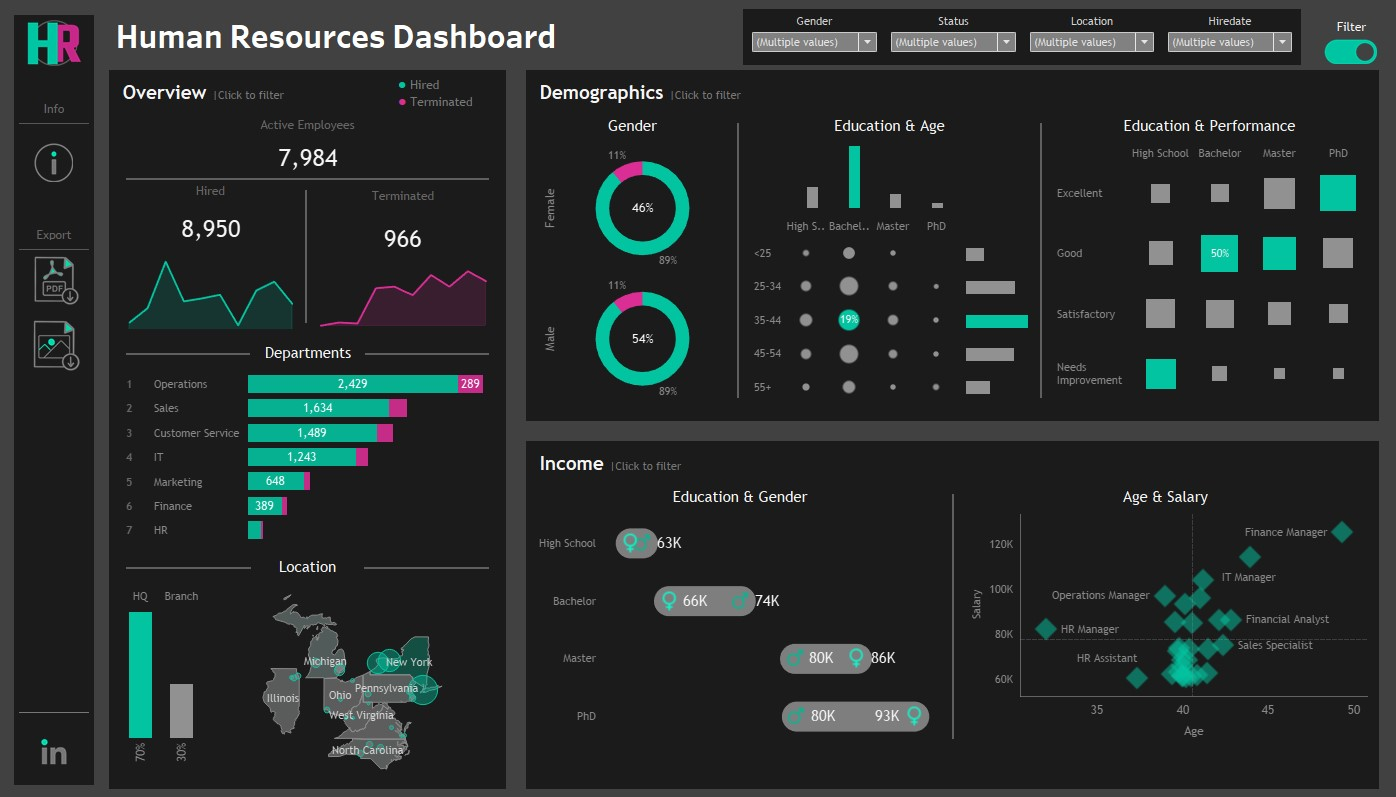

The page's visual inventory and layout, read from the dashboard file:
{"tool":"tableau","page":{"name":"Dashboard Summary","canvas":[1400,800],"ordinal":0},"visuals":[{"type":"blank","box":[96,0,1302,266]},{"type":"text","box":[110,0,622,70]},{"type":"blank","box":[732,0,648,70]},{"type":"filter","title":"gender vs education level","param":"[federated.1v3r0kx0rxv7lr11seoyn0p5qqrr].[none:Gender:nk]","box":[746,11,139,52]},{"type":"filter","title":"gender vs education level","param":"[federated.1v3r0kx0rxv7lr11seoyn0p5qqrr].[none:Calculation_1762314875518541824:n","box":[885,11,139,52]},{"type":"filter","title":"gender vs education level","param":"[federated.1v3r0kx0rxv7lr11seoyn0p5qqrr].[none:Calculation_1646628659733303301:n","box":[1024,11,138,52]},{"type":"filter","title":"gender vs education level","param":"[federated.1v3r0kx0rxv7lr11seoyn0p5qqrr].[yr:Hiredate:ok]","box":[1162,11,138,52]},{"type":"text","box":[1317,12,71,29]},{"type":"image","param":"Image/Logo.png","box":[15,15,80,55]},{"type":"dashboard-object","box":[1325,28,53,47]},{"type":"blank","box":[15,70,80,30]},{"type":"text","box":[396,71,87,43]},{"type":"text","box":[117,77,383,31]},{"type":"text","box":[534,77,839,31]},{"type":"text","box":[15,100,80,18]},{"type":"text","box":[117,108,383,28]},{"type":"text","box":[534,113,199,26]},{"type":"blank","box":[738,113,2,295]},{"type":"text","box":[745,113,291,26]},{"type":"blank","box":[1041,113,2,295]},{"type":"text","box":[1048,113,325,26]},{"type":"blank","box":[15,118,80,11]},{"type":"worksheet","title":"total active","mark":"Text","box":[117,136,383,42]},{"type":"dashboard-object","box":[25,139,60,47]},{"type":"worksheet","title":"gender","mark":"Pie","rows":["Gender"],"cols":["Calculation_1646628659743494151","Calculation_1646628659743494151"],"box":[534,139,199,269]},{"type":"worksheet","title":"edu levels","mark":"Bar","rows":["Calculation_1646628659718410240"],"cols":["Education Level"],"box":[745,139,291,73]},{"type":"worksheet","title":"education vs performance","mark":"Square","rows":["Performance Rating"],"cols":["Education Level"],"box":[1048,139,325,269]},{"type":"blank","box":[117,178,383,2]},{"type":"text","box":[117,180,189,22]},{"type":"blank","box":[306,180,2,153]},{"type":"text","box":[308,180,191.9,32]},{"type":"blank","box":[15,196,80,30]},{"type":"worksheet","title":"total hired","mark":"Text","box":[117,202,189,51]},{"type":"worksheet","title":"total terminated","mark":"Text","box":[308,212,191.9,51]},{"type":"worksheet","title":"age vs education","mark":"Circle","rows":["Calculation_1646628659748687881"],"cols":["Education Level"],"box":[745,212,218,196]},{"type":"worksheet","title":"age groups","mark":"Bar","rows":["Calculation_1646628659748687881"],"cols":["Calculation_1646628659718410240"],"box":[963,212,73,196]},{"type":"text","box":[15,226,80,18]},{"type":"blank","box":[15,244,80,11]},{"type":"worksheet","title":"hired by year","mark":"Line","rows":["Calculation_1646628659718410240","Calculation_1646628659718410240"],"cols":["Hiredate"],"box":[117,253,189,80]},{"type":"dashboard-object","box":[15,255,80,50]},{"type":"worksheet","title":"terminated by year","mark":"Line","rows":["Calculation_1646628659718594561","Calculation_1646628659718594561"],"cols":["Termdate"],"box":[308,263,191.9,70]},{"type":"text","box":[96,266,1302,234]},{"type":"blank","box":[15,305,80,10]},{"type":"dashboard-object","box":[15,315,80,60]},{"type":"blank","box":[127,338,123.7,30]},{"type":"text","box":[250.7,338,115.7,30]},{"type":"blank","box":[366.3,338,123.7,30]},{"type":"worksheet","title":"departments","mark":"Bar","rows":["Calculation_1646628659730563076","Department"],"cols":["Calculation_1646628659718410240"],"box":[117,368,383,179]},{"type":"blank","box":[15,375,80,332]},{"type":"text","box":[534,448,839,31]},{"type":"text","box":[534,484,414,26]},{"type":"blank","box":[953,484,2,265]},{"type":"text","box":[960,484,413,26]},{"type":"blank","box":[96,500,1302,300]},{"type":"worksheet","title":"gender vs education level","mark":"Square","rows":["Education Level"],"cols":["Salary","Salary"],"box":[534,510,414,239]},{"type":"worksheet","title":"age vs salary","mark":"Shape","rows":["Salary"],"cols":["Calculation_1646628659746996232"],"box":[960,510,413,239]},{"type":"blank","box":[127,552,125,30]},{"type":"text","box":[252,552,113,30]},{"type":"blank","box":[365,552,125,30]},{"type":"worksheet","title":"location","mark":"Bar","rows":["Calculation_1646628659718410240"],"cols":["Calculation_1646628659733303301","Calculation1"],"box":[117,582,90,200]},{"type":"worksheet","title":"map states","mark":"Multipolygon","box":[207,582,293,200]},{"type":"blank","box":[15,707,80,11]},{"type":"image","param":"Image/contact-linkedin.png","box":[15,718,80,67]},{"type":"blank","box":[534,749,839,33]}]}

Visuals, with their boxes in screenshot pixels (x1, y1, x2, y2), scaled from the page's 1400x800 canvas onto the 1396x797 screenshot:
blank: [96,0,1394,265]
text: [110,0,730,70]
blank: [730,0,1376,70]
"gender vs education level" filter: [744,11,882,63]
"gender vs education level" filter: [882,11,1021,63]
"gender vs education level" filter: [1021,11,1159,63]
"gender vs education level" filter: [1159,11,1296,63]
text: [1313,12,1384,41]
image: [15,15,95,70]
dashboard-object: [1321,28,1374,75]
blank: [15,70,95,100]
text: [395,71,482,114]
text: [117,77,499,108]
text: [532,77,1369,108]
text: [15,100,95,118]
text: [117,108,499,135]
text: [532,113,731,138]
blank: [736,113,738,406]
text: [743,113,1033,138]
blank: [1038,113,1040,406]
text: [1045,113,1369,138]
blank: [15,118,95,129]
"total active" worksheet (Text marks): [117,135,499,177]
dashboard-object: [25,138,85,185]
"gender" worksheet (Pie marks): [532,138,731,406]
"edu levels" worksheet (Bar marks): [743,138,1033,211]
"education vs performance" worksheet (Square marks): [1045,138,1369,406]
blank: [117,177,499,179]
text: [117,179,305,201]
blank: [305,179,307,332]
text: [307,179,498,211]
blank: [15,195,95,225]
"total hired" worksheet (Text marks): [117,201,305,252]
"total terminated" worksheet (Text marks): [307,211,498,262]
"age vs education" worksheet (Circle marks): [743,211,960,406]
"age groups" worksheet (Bar marks): [960,211,1033,406]
text: [15,225,95,243]
blank: [15,243,95,254]
"hired by year" worksheet (Line marks): [117,252,305,332]
dashboard-object: [15,254,95,304]
"terminated by year" worksheet (Line marks): [307,262,498,332]
text: [96,265,1394,498]
blank: [15,304,95,314]
dashboard-object: [15,314,95,374]
blank: [127,337,250,367]
text: [250,337,365,367]
blank: [365,337,489,367]
"departments" worksheet (Bar marks): [117,367,499,545]
blank: [15,374,95,704]
text: [532,446,1369,477]
text: [532,482,945,508]
blank: [950,482,952,746]
text: [957,482,1369,508]
blank: [96,498,1394,796]
"gender vs education level" worksheet (Square marks): [532,508,945,746]
"age vs salary" worksheet (Shape marks): [957,508,1369,746]
blank: [127,550,251,580]
text: [251,550,364,580]
blank: [364,550,489,580]
"location" worksheet (Bar marks): [117,580,206,779]
"map states" worksheet (Multipolygon marks): [206,580,499,779]
blank: [15,704,95,715]
image: [15,715,95,782]
blank: [532,746,1369,779]
